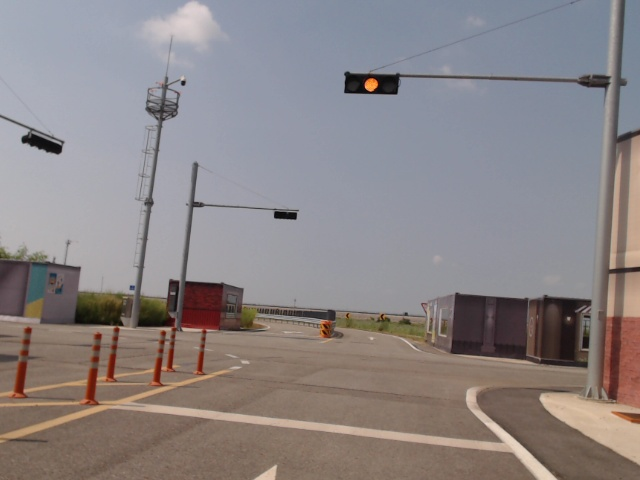orange_3: (344, 71, 400, 97)
